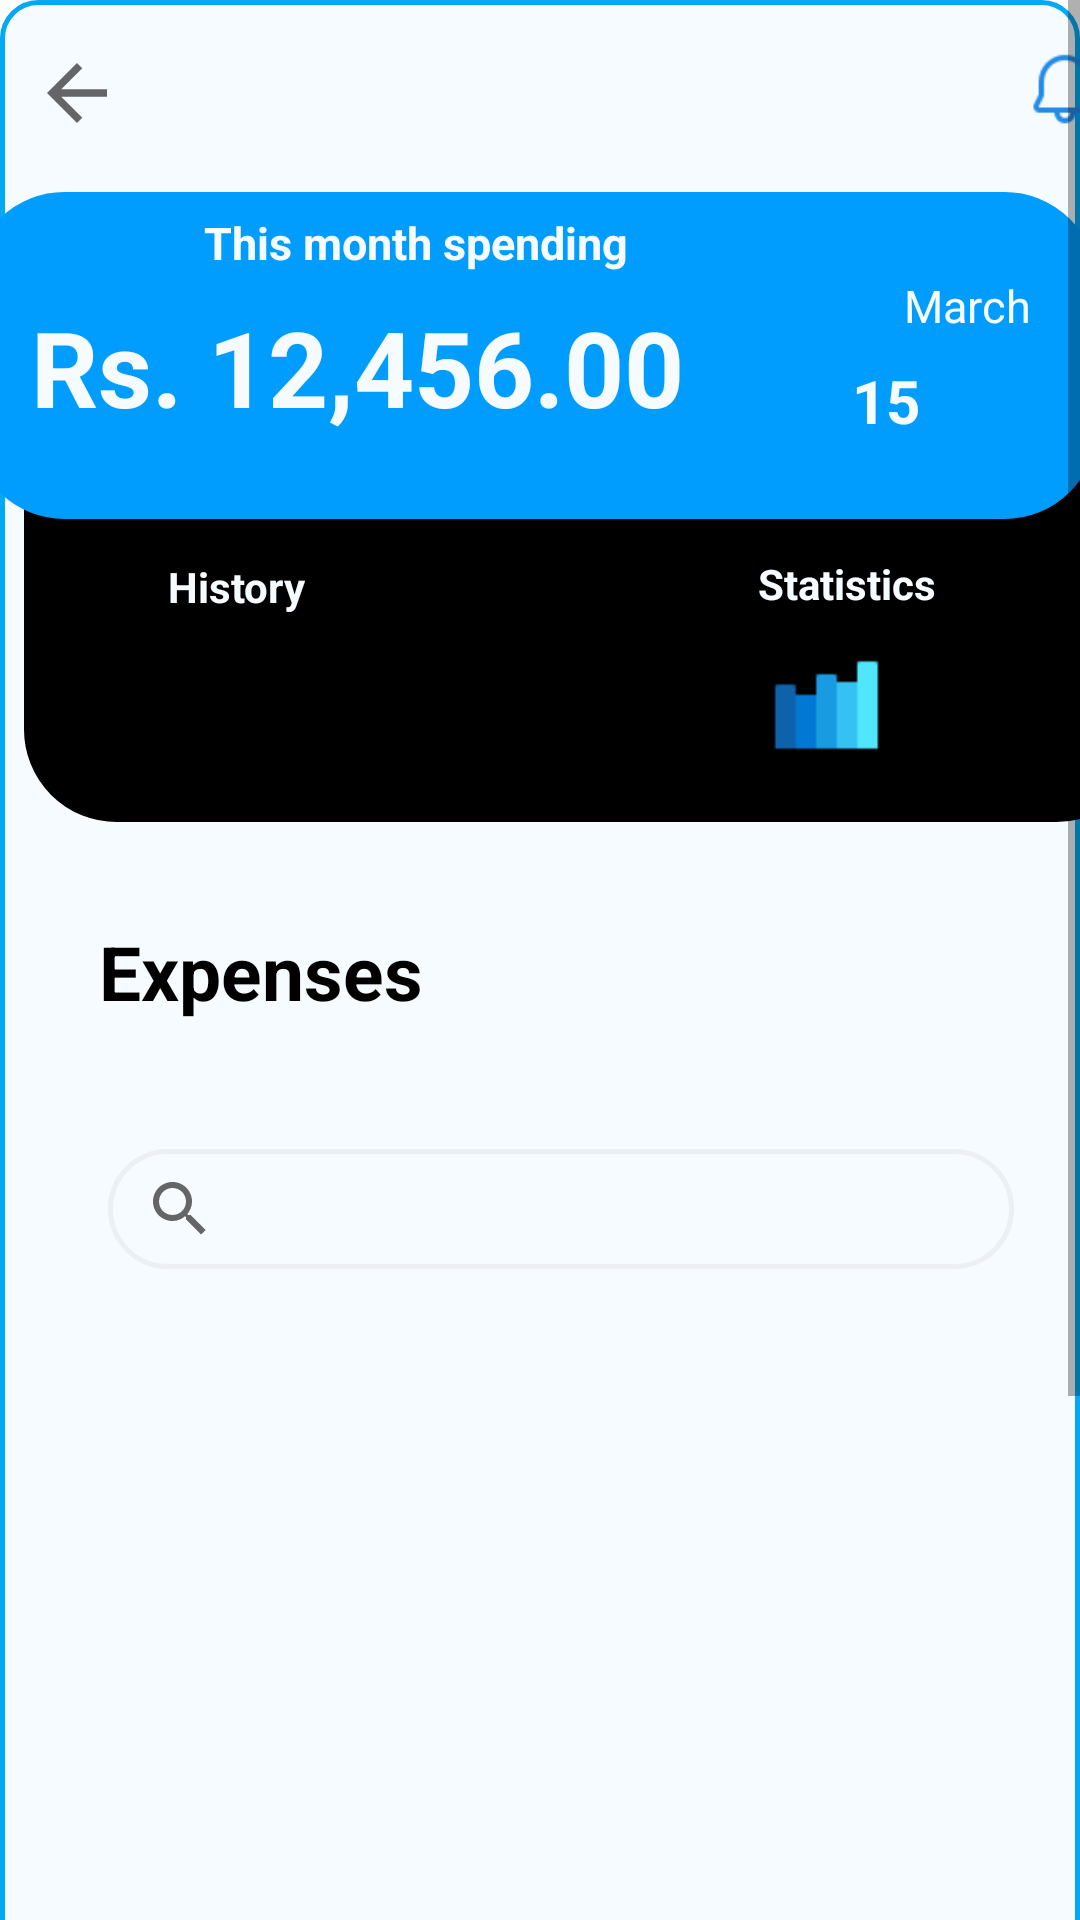

Named icons in this screenshot (1080 x 1920) and their centers, (x=x, y=y):
barchart: (x=826, y=705)
